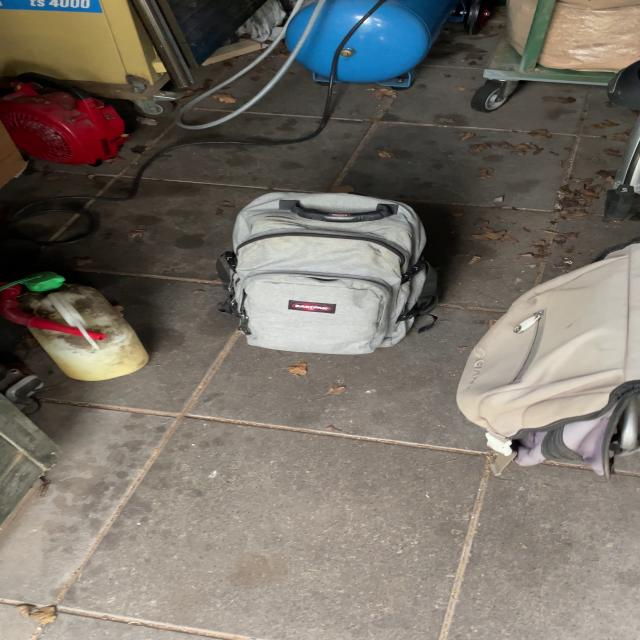backpack: (207, 184, 450, 360)
